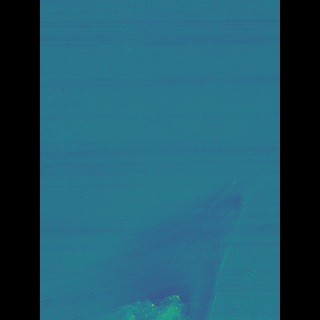Loch: (121, 267, 184, 319)
